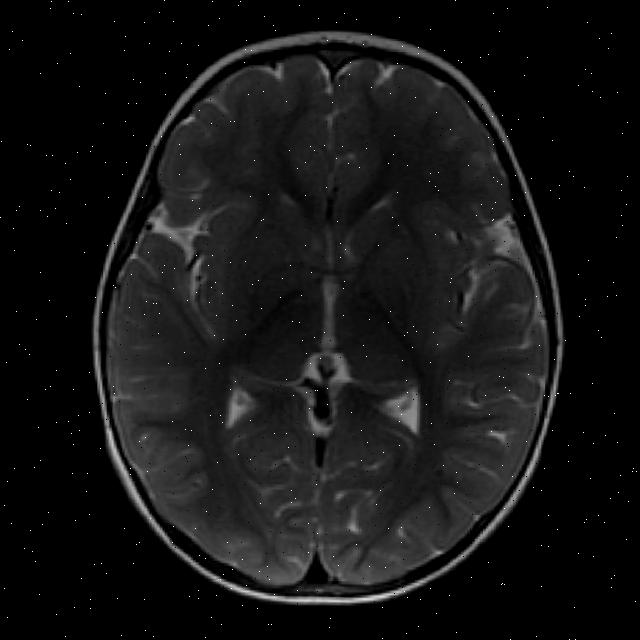NoTumor: (69, 17, 587, 622)
